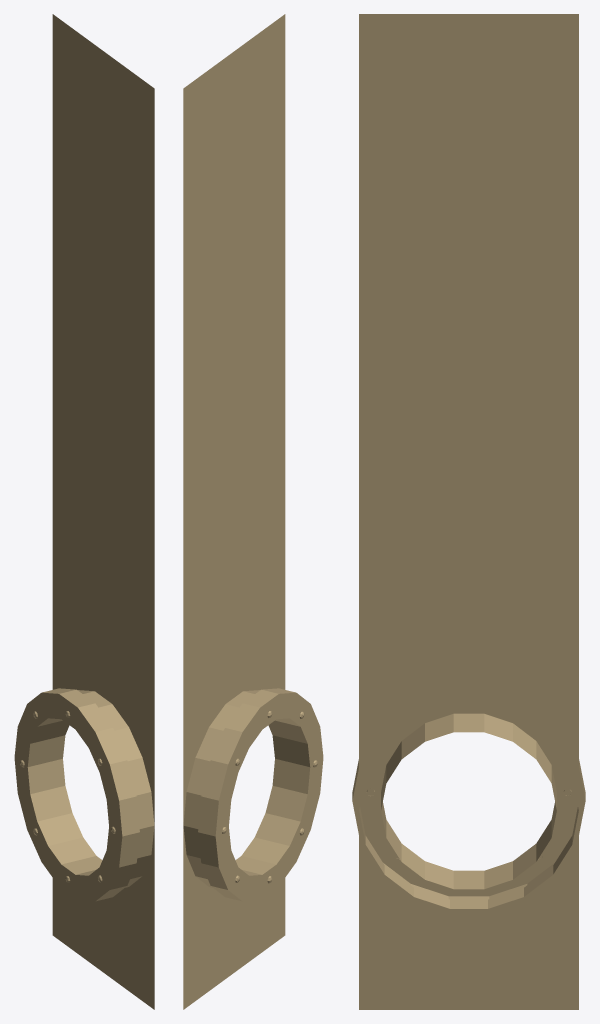
Rendered from Pipe_Small_Wall_1x5_Sewer_Environment.FBX.
3 views of the same model, side by side, from view 1: azimuth 30°, elevation 25°; view 2: azimuth 150°, elevation 25°; view 3: azimuth 270°, elevation 25° (orthographic). The views are drawn at different scales.
Parts seen in each view (by area): view 1: Rohr_klein_Wand_1x5_links; view 2: Rohr_klein_Wand_1x5_links; view 3: Rohr_klein_Wand_1x5_links.
Boxes of the visible parts, <box> form: Rohr_klein_Wand_1x5_links: <box>14,14,154,1009</box>; Rohr_klein_Wand_1x5_links: <box>183,14,323,1009</box>; Rohr_klein_Wand_1x5_links: <box>352,14,585,1009</box>.
Size of the model in its own units: 21.18 by 500 by 106.
